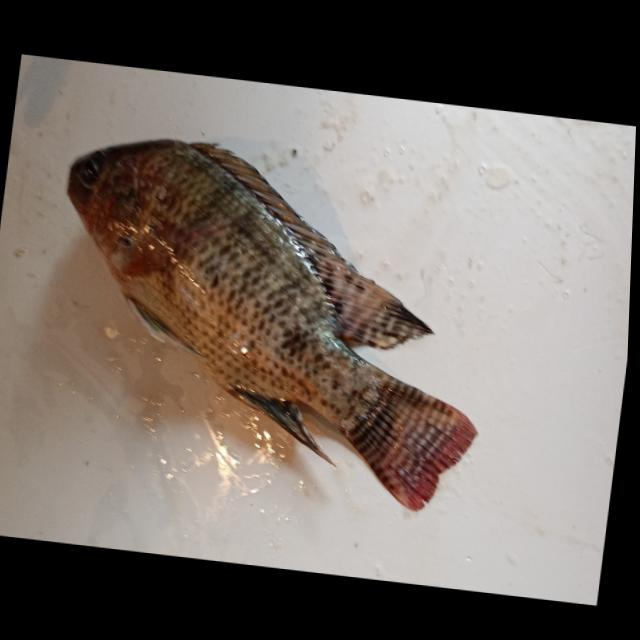Tilapia: (30, 122, 512, 520)
